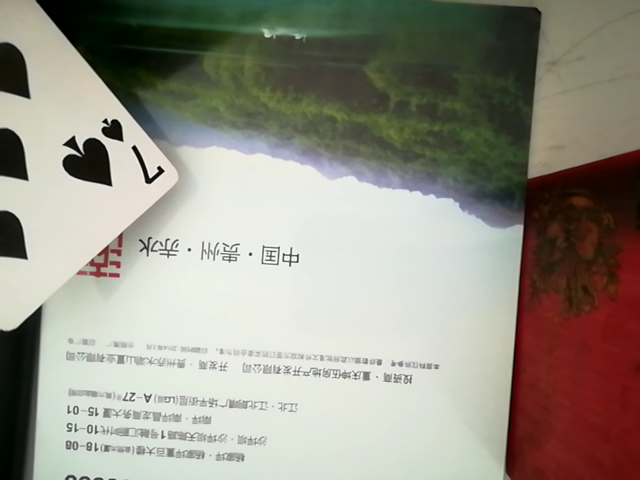ht 7: (0, 0, 181, 373)
